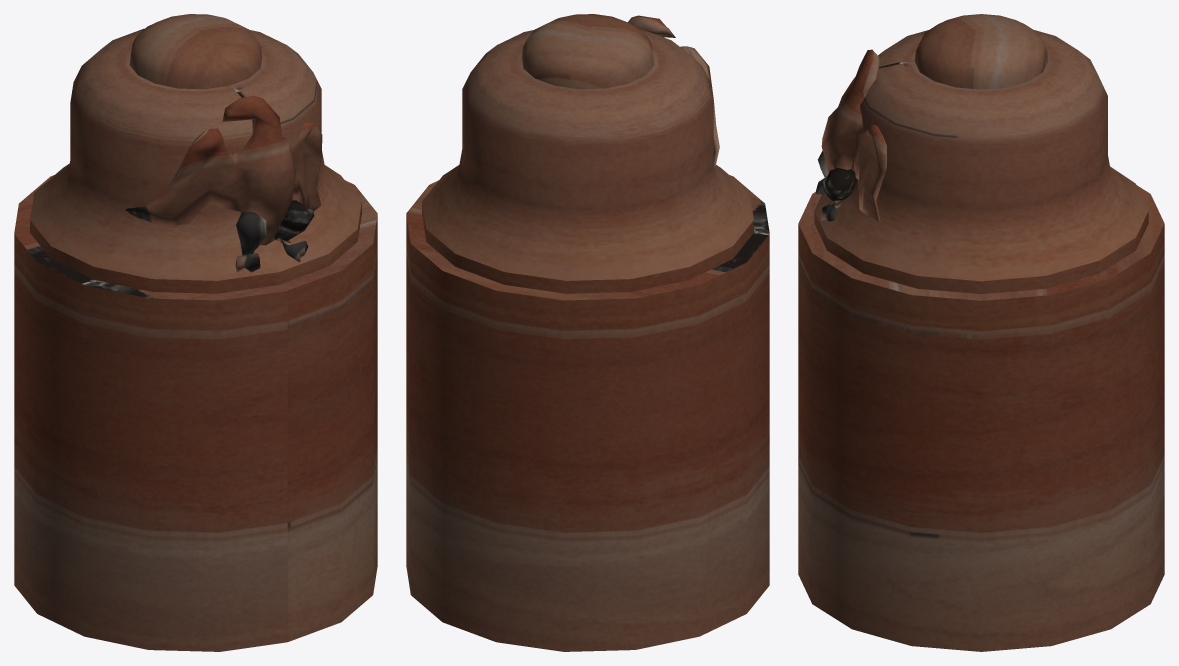
Rendered from Fence_Pillar01.FBX.
The picture shows the model from 3 angles, left to right: view 1: azimuth 30°, elevation 25°; view 2: azimuth 150°, elevation 25°; view 3: azimuth 270°, elevation 25°; orthographic projection.
Parts seen in each view (by area): view 1: Cylinder001; view 2: Cylinder001; view 3: Cylinder001.
Boxes of the visible parts, box(x1,y1,x2,y2) form: Cylinder001: box(14, 14, 377, 651); Cylinder001: box(406, 14, 769, 651); Cylinder001: box(798, 14, 1164, 651).
Size of the model in its own units: 93.17 by 153 by 93.17.
